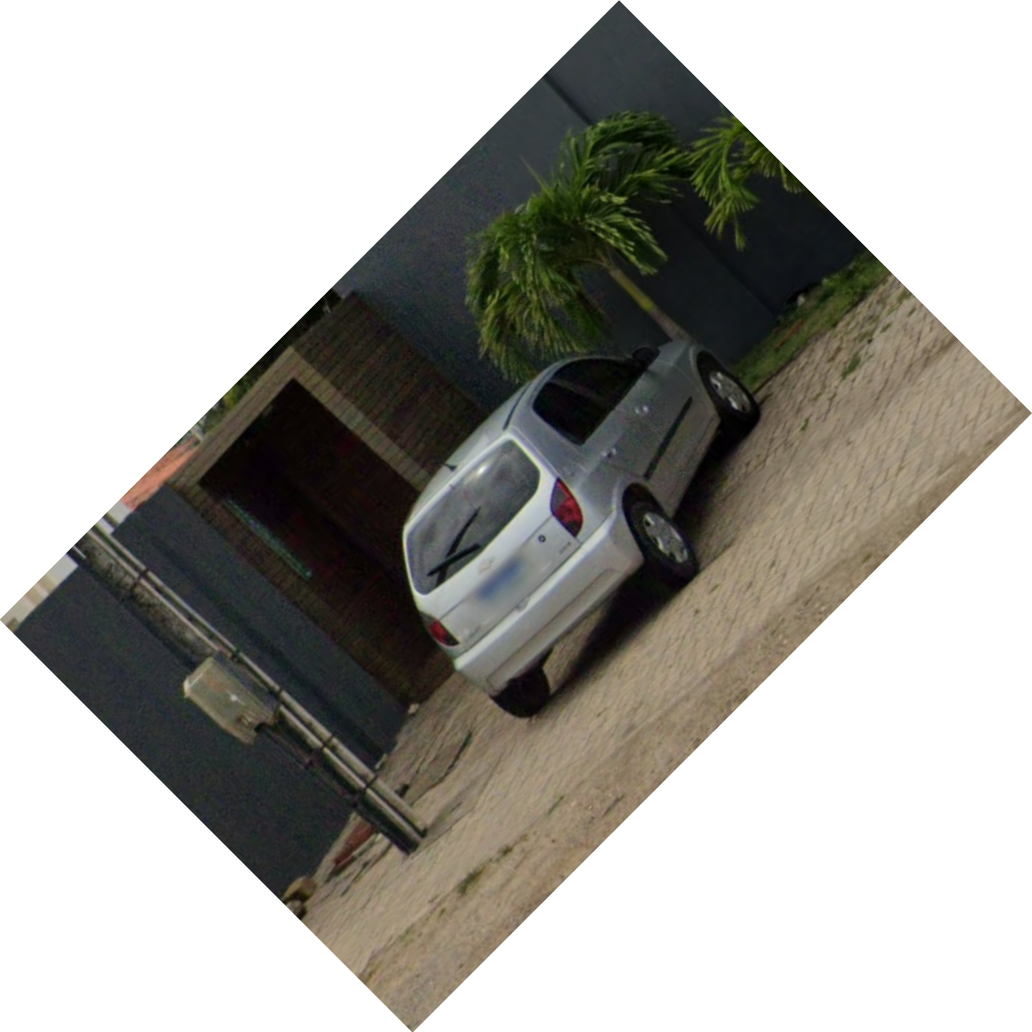car: (397, 335, 761, 722)
